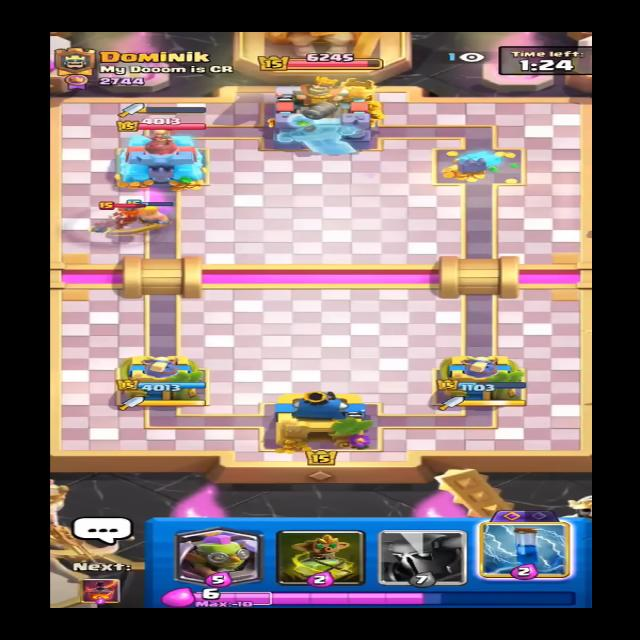valkyrie: (94, 198, 154, 232)
